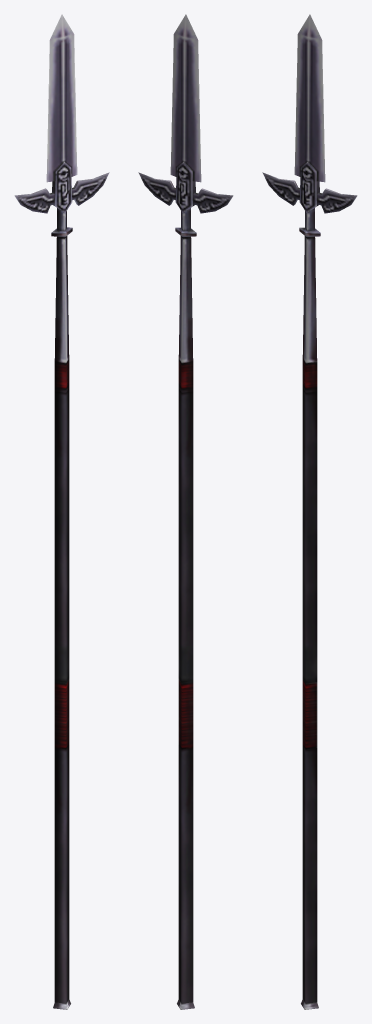
The model's file is Polearm17.FBX.
The picture shows the model from 3 angles, left to right: view 1: azimuth 30°, elevation 25°; view 2: azimuth 150°, elevation 25°; view 3: azimuth 330°, elevation 25°; orthographic projection.
Parts seen in each view (by area): view 1: Polearm17; view 2: Polearm17; view 3: Polearm17.
Boxes of the visible parts, x1=… form: Polearm17: x1=14, y1=14, x2=109, y2=1009; Polearm17: x1=138, y1=14, x2=233, y2=1009; Polearm17: x1=262, y1=14, x2=357, y2=1009.
Bounding box in the file's own units: 25.63 × 255 × 4.94.
